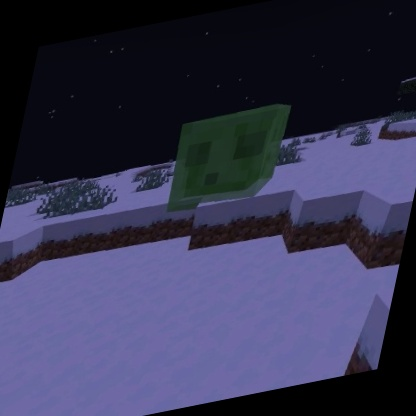slime: (161, 96, 297, 218)
